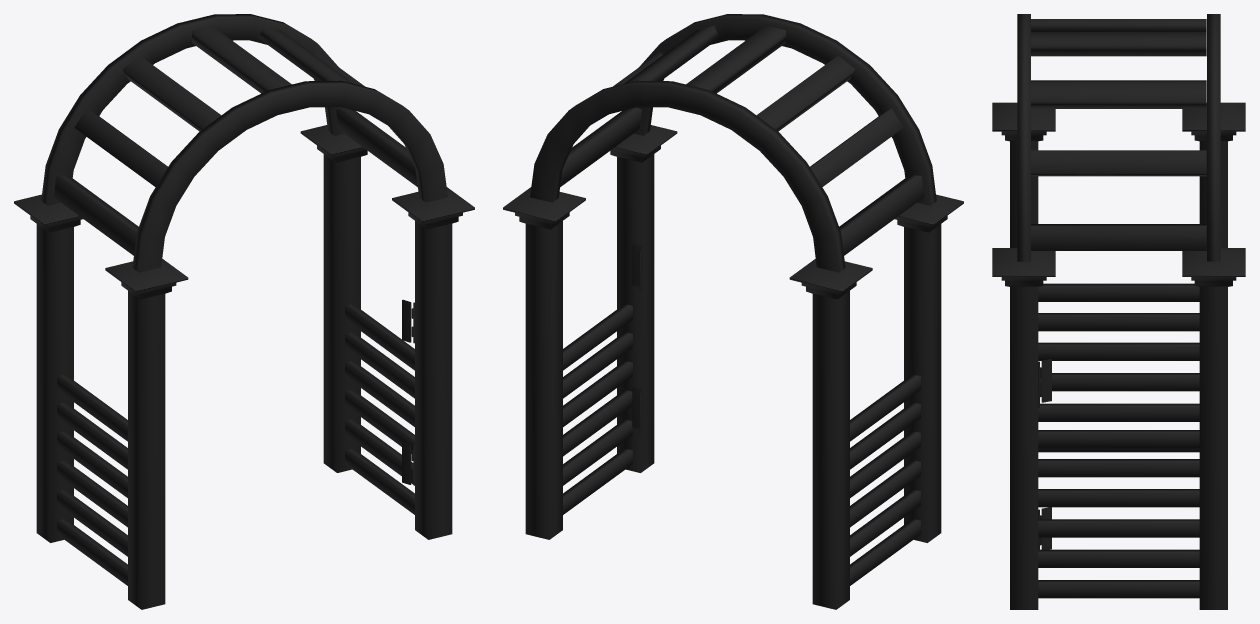
3 renders of one model, left to right at view 1: azimuth 30°, elevation 25°; view 2: azimuth 150°, elevation 25°; view 3: azimuth 270°, elevation 25°, orthographic. The views are drawn at different scales.
Parts seen in each view (by area): view 1: ArborEntrance; view 2: ArborEntrance; view 3: ArborEntrance.
Part boxes in pixels (box(x1,y1,x2,y2)): ArborEntrance: box(14, 14, 474, 609); ArborEntrance: box(503, 14, 963, 609); ArborEntrance: box(992, 14, 1245, 609).
Size of what is drawn, in the model's own units: 1.95 by 2.63 by 1.21.
1 material, 1 textured.
